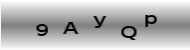9: (34, 23, 49, 37)
A: (61, 21, 79, 35)
Q: (120, 25, 138, 41)
p: (142, 14, 159, 27)
y: (91, 14, 107, 29)
